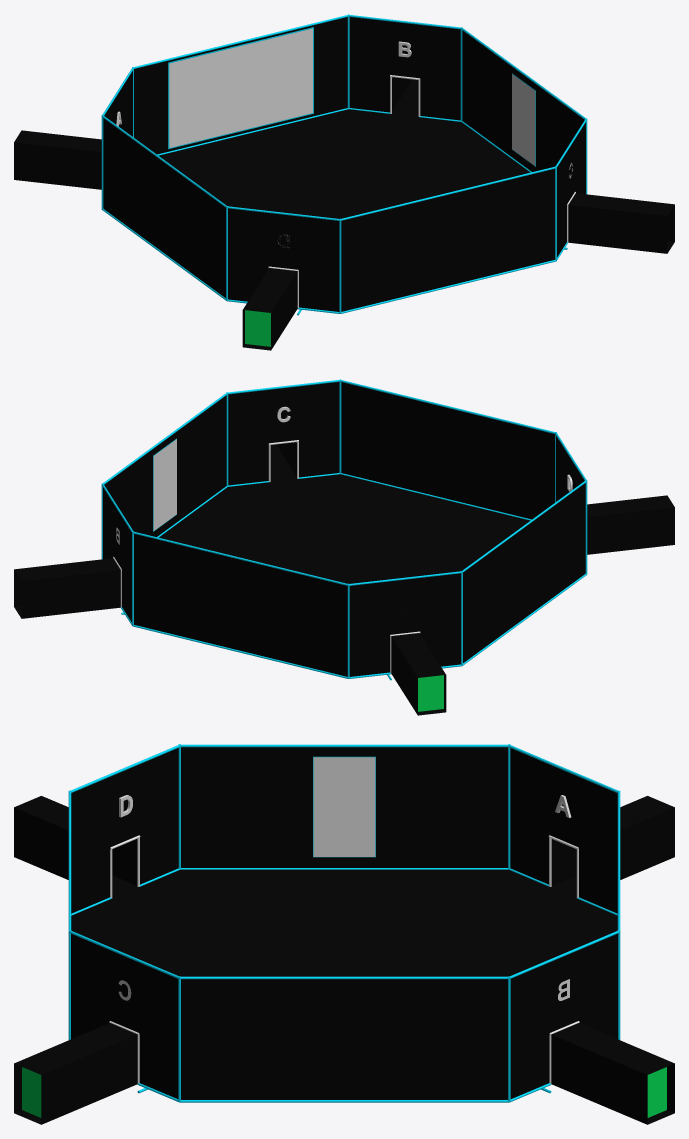
3 views of the same model, one above another, from view 1: azimuth 30°, elevation 25°; view 2: azimuth 150°, elevation 25°; view 3: azimuth 270°, elevation 25° (orthographic). The views are drawn at different scales.
Visible parts, largest first — view 1: Plane.007, Plane.005, Plane.015, Plane.008, Plane.003, Plane.018, Plane.004, Plane.025, Plane.006, Plane.011, Plane.022, Plane.017 (+3 smaller); view 2: Plane.007, Plane.006, Plane.005, Plane.011, Plane.003, Plane.025, Plane.004, Plane.018, Plane.008, Plane.015, Plane.022, Plane.020 (+3 smaller); view 3: Plane.007, Plane.004, Plane.003, Plane.025, Plane.018, Plane.011, Plane.008, Plane.023, Cylinder.010, Cylinder.011, Cylinder.002, Plane.009 (+2 smaller).
Part boxes in pixels (box(x1,y1,x2,y2)): Plane.007: box(159, 109, 529, 218); Plane.005: box(341, 169, 554, 311); Plane.015: box(168, 27, 313, 149); Plane.008: box(228, 208, 339, 350); Plane.003: box(103, 118, 225, 297); Plane.018: box(349, 17, 460, 120); Plane.004: box(462, 30, 584, 171); Plane.025: box(557, 122, 674, 257); Plane.006: box(134, 17, 347, 154); Plane.011: box(14, 71, 132, 189); Plane.022: box(512, 73, 535, 166); Plane.017: box(245, 310, 270, 346); Plane.007: box(159, 474, 529, 583); Plane.006: box(134, 534, 347, 676); Plane.005: box(341, 382, 554, 519); Plane.011: box(349, 573, 460, 715); Plane.003: box(463, 483, 585, 662); Plane.025: box(228, 382, 339, 485); Plane.004: box(104, 395, 226, 536); Plane.018: box(14, 487, 131, 622); Plane.008: box(556, 436, 674, 554); Plane.015: box(168, 545, 313, 664); Plane.022: box(153, 438, 176, 531); Plane.020: box(418, 675, 443, 711); Plane.007: box(71, 869, 617, 976); Plane.004: box(181, 979, 507, 1099); Plane.003: box(181, 747, 507, 867); Plane.025: box(14, 933, 178, 1124); Plane.018: box(510, 933, 674, 1124); Plane.011: box(510, 748, 674, 913); Plane.008: box(14, 748, 178, 913); Plane.023: box(313, 756, 375, 857); Cylinder.010: box(180, 976, 508, 979); Cylinder.011: box(180, 744, 508, 747); Cylinder.002: box(179, 1100, 509, 1102); Plane.009: box(647, 1067, 666, 1117).
Bounding box in the file's own units: 2407 × 538 × 2407.
